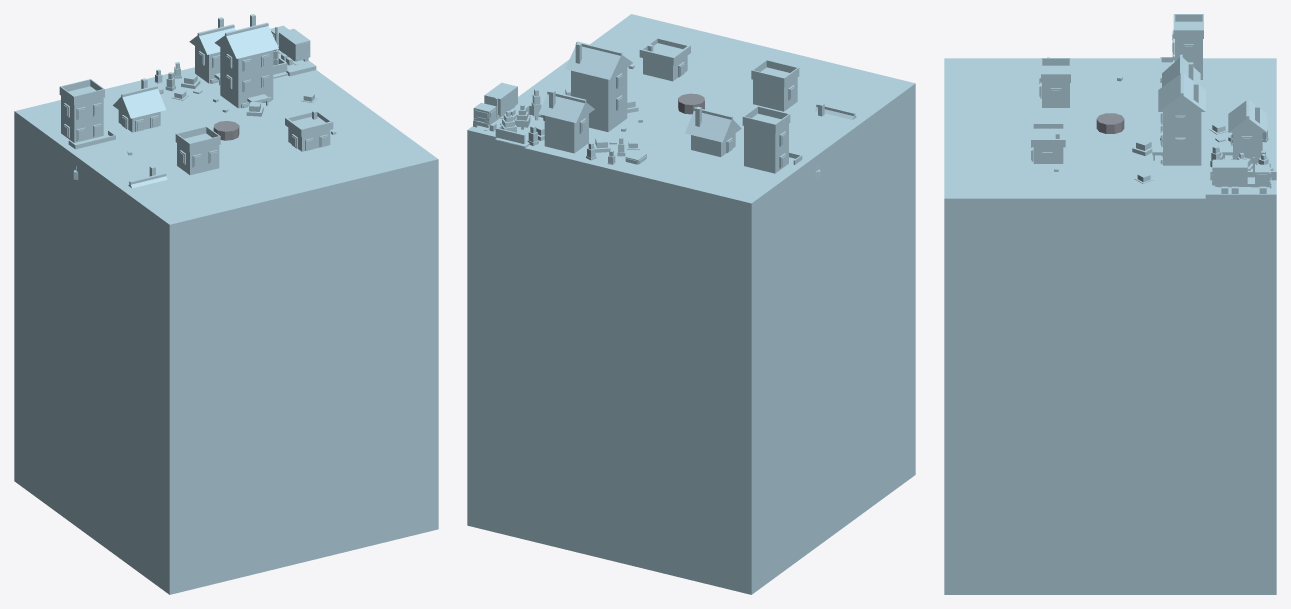
File: block_5_undergroundtanks_100.glb
3 views of the same model, side by side, from view 1: azimuth 30°, elevation 25°; view 2: azimuth 150°, elevation 25°; view 3: azimuth 270°, elevation 25° (orthographic). The views are drawn at different scales.
Visible parts, largest first — view 1: Patch_UpperLeft_b07_UT, Bungalows_UpperLeft_b07_UT, Roads_UpperLeft_b07_UT, ULCar_019_UT; view 2: Patch_UpperLeft_b07_UT, Bungalows_UpperLeft_b07_UT, ULCar_019_UT, Roads_UpperLeft_b07_UT; view 3: Patch_UpperLeft_b07_UT, Bungalows_UpperLeft_b07_UT, Roads_UpperLeft_b07_UT, ULCar_019_UT, UT_TankUnit_05.
Boxes of the visible parts, x1,y1,x2,y2 form: Patch_UpperLeft_b07_UT: (14,67,438,594); Bungalows_UpperLeft_b07_UT: (14,14,333,273); Roads_UpperLeft_b07_UT: (92,52,438,283); ULCar_019_UT: (270,25,310,65); Patch_UpperLeft_b07_UT: (467,14,915,594); Bungalows_UpperLeft_b07_UT: (495,37,899,235); ULCar_019_UT: (473,82,517,131); Roads_UpperLeft_b07_UT: (467,107,915,191); Patch_UpperLeft_b07_UT: (944,58,1276,594); Bungalows_UpperLeft_b07_UT: (1031,14,1276,180); Roads_UpperLeft_b07_UT: (944,180,1276,230); ULCar_019_UT: (1212,157,1271,193); UT_TankUnit_05: (1096,113,1124,133).
Bounding box in the file's own units: 9.61 × 15.01 × 9.5.
